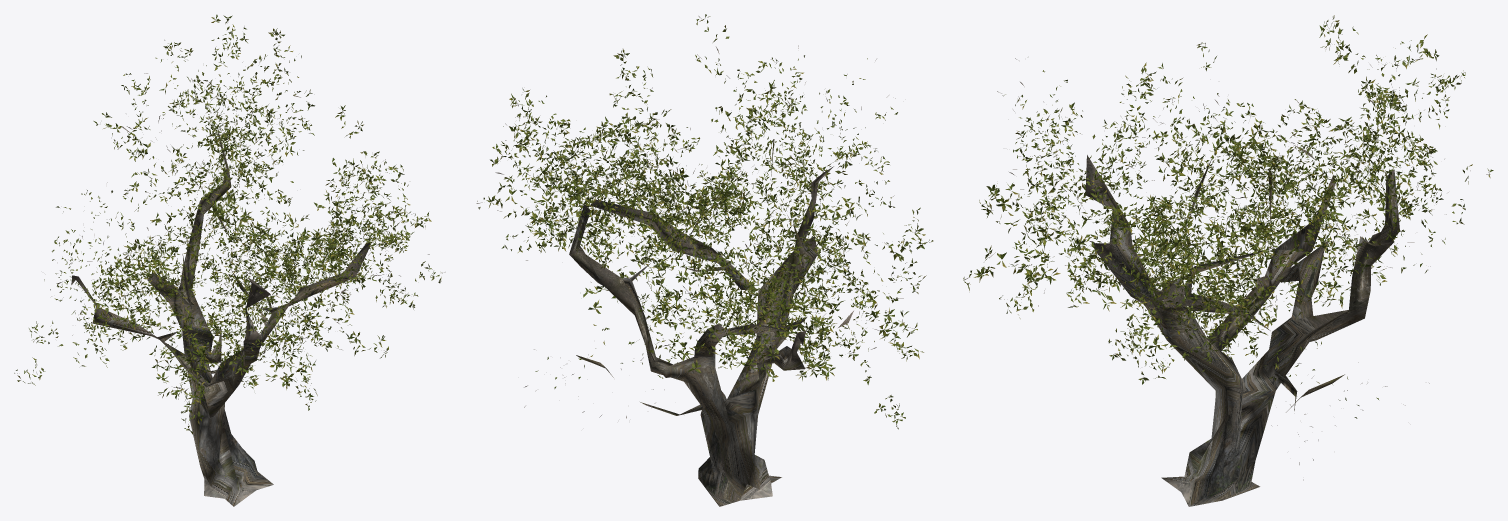
File: island_tree_01.glb
The picture shows the model from 3 angles, left to right: view 1: azimuth 30°, elevation 25°; view 2: azimuth 150°, elevation 25°; view 3: azimuth 270°, elevation 25°; orthographic projection. The views are drawn at different scales.
Visible parts, largest first — view 1: island_tree_01_LOD0; view 2: island_tree_01_LOD0; view 3: island_tree_01_LOD0.
Boxes of the visible parts, left/top/right/bottom form: island_tree_01_LOD0: left=14, top=14, right=445, bottom=506; island_tree_01_LOD0: left=476, top=14, right=933, bottom=506; island_tree_01_LOD0: left=963, top=15, right=1493, bottom=506.
Size of the model in its own units: 4.73 by 5.02 by 4.79.
3 materials, 3 textured.
